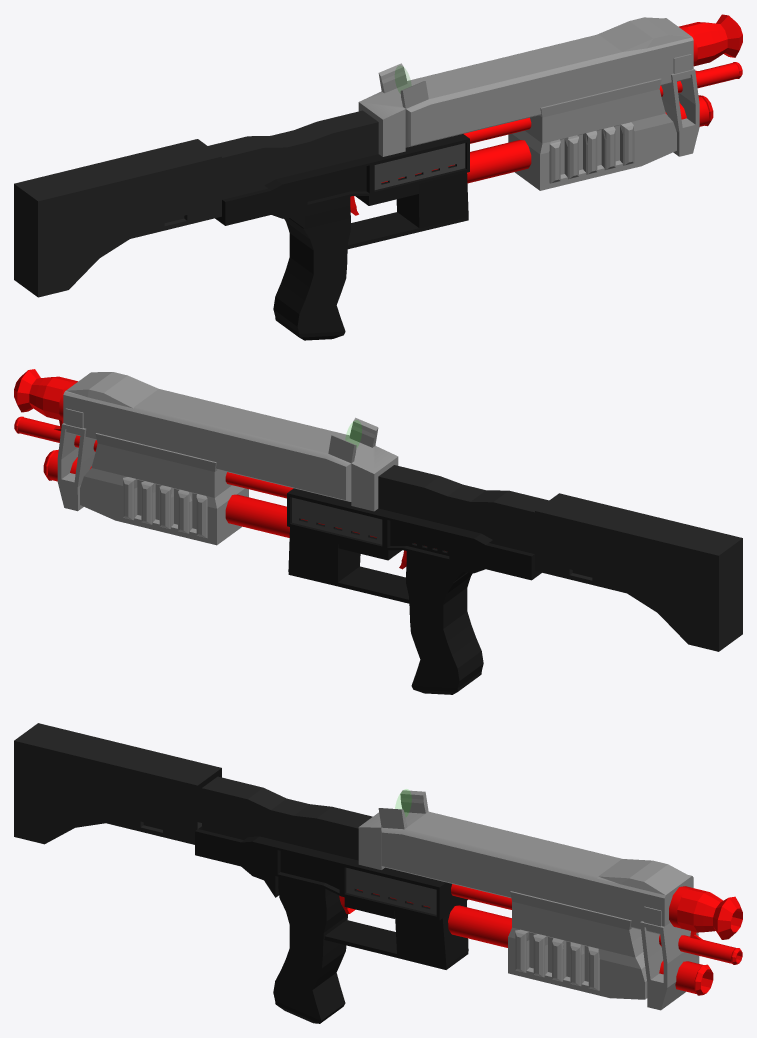
The model's file is K-49 Shotgun.FBX.
The picture shows the model from 3 angles, top to bottom: view 1: azimuth 30°, elevation 25°; view 2: azimuth 150°, elevation 25°; view 3: azimuth 330°, elevation 25°; orthographic projection.
Visible parts, largest first — view 1: Object001, Box001, Front, Sldier, Base, ReloadChamberTop, Cylinder003, Cylinder001, Cylinder002; view 2: Object001, Box001, Front, Sldier, Base, ReloadChamberTop, Cylinder003, Cylinder001, Cylinder002; view 3: Object001, Front, Box001, Sldier, Base, ReloadChamberTop, Cylinder003, Cylinder001, Cylinder002.
Boxes of the visible parts, x1,y1,x2,y2 form: Object001: (215, 134, 469, 340); Box001: (14, 139, 221, 297); Front: (358, 17, 699, 156); Sldier: (508, 78, 676, 190); Base: (208, 110, 378, 199); ReloadChamberTop: (407, 35, 620, 98); Cylinder003: (467, 95, 713, 183); Cylinder001: (678, 14, 742, 66); Cylinder002: (463, 62, 742, 143); Object001: (287, 488, 541, 694); Box001: (535, 493, 742, 651); Front: (57, 372, 398, 511); Sldier: (80, 433, 248, 545); Base: (378, 465, 548, 553); ReloadChamberTop: (137, 389, 349, 453); Cylinder003: (43, 449, 289, 537); Cylinder001: (14, 369, 77, 420); Cylinder002: (14, 416, 293, 498); Object001: (195, 826, 468, 1023); Front: (358, 790, 699, 1010); Box001: (14, 723, 221, 844); Sldier: (508, 891, 647, 999); Base: (202, 776, 372, 860); ReloadChamberTop: (405, 812, 620, 875); Cylinder003: (448, 905, 713, 995); Cylinder001: (669, 886, 742, 939); Cylinder002: (451, 884, 742, 964).
Bounding box in the file's own units: 155 × 51.12 × 14.37.
